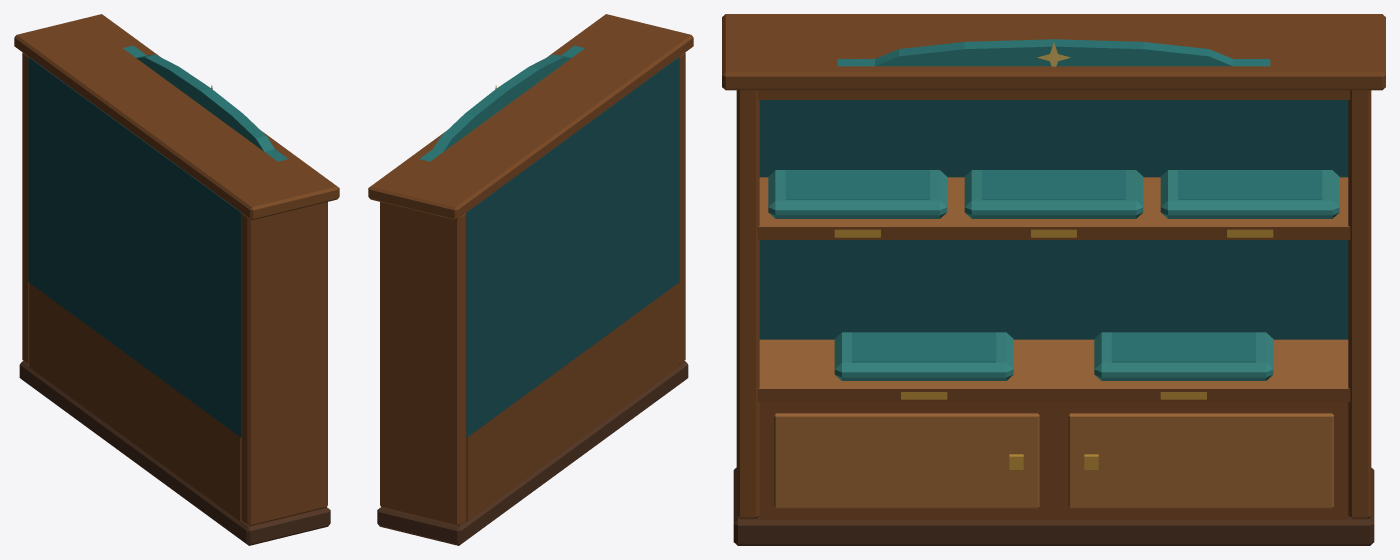
The model's file is trophy_shelf.glb.
3 renders of one model, left to right at view 1: azimuth 30°, elevation 25°; view 2: azimuth 150°, elevation 25°; view 3: azimuth 270°, elevation 25°, orthographic. The views are drawn at different scales.
Parts seen in each view (by area): view 1: trophy_shelf; view 2: trophy_shelf; view 3: trophy_shelf.
Boxes of the visible parts, <box> form: trophy_shelf: <box>14,14,339,545</box>; trophy_shelf: <box>368,14,693,545</box>; trophy_shelf: <box>722,14,1385,545</box>.
Size of the model in its own units: 0.5 by 1.92 by 2.3.
